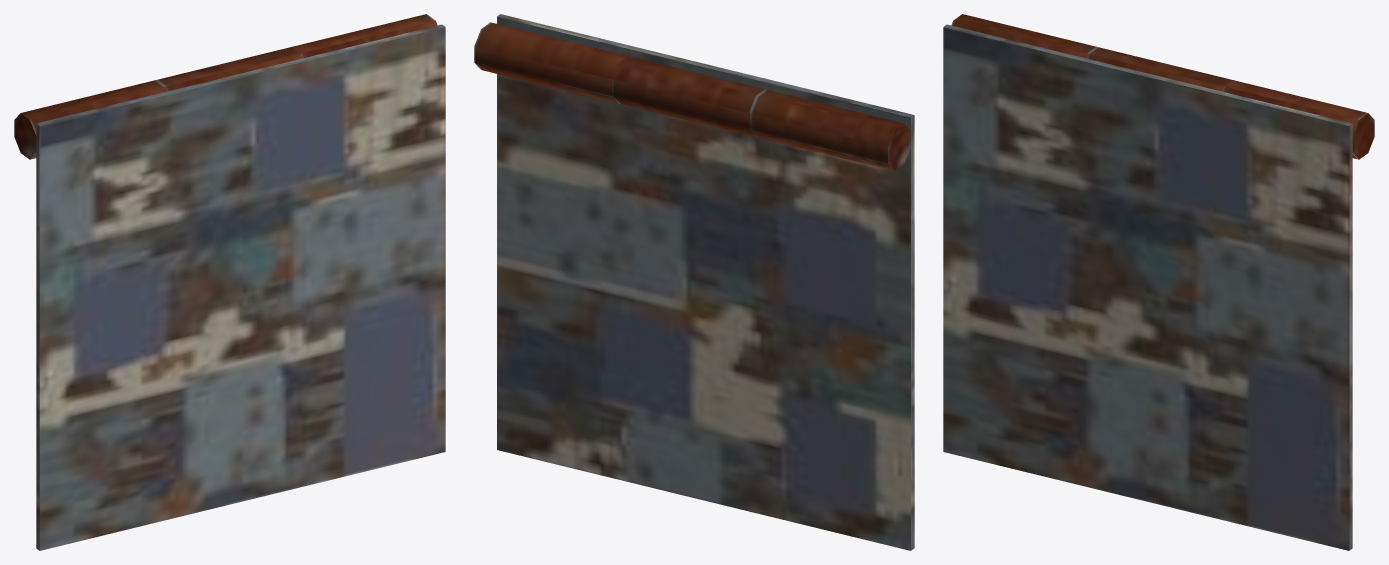
Rendered from garage_door_textured.glb.
The picture shows the model from 3 angles, left to right: view 1: azimuth 30°, elevation 25°; view 2: azimuth 150°, elevation 25°; view 3: azimuth 330°, elevation 25°; orthographic projection.
Visible parts, largest first — view 1: Circle; view 2: Circle; view 3: Circle.
Part boxes in pixels (x1,y1,x2,y2): Circle: (14, 14, 445, 550); Circle: (474, 14, 914, 550); Circle: (943, 14, 1374, 550).
Bounding box in the file's own units: 2 × 2 × 0.2183.
Materials: 1 (1 with a texture image).
